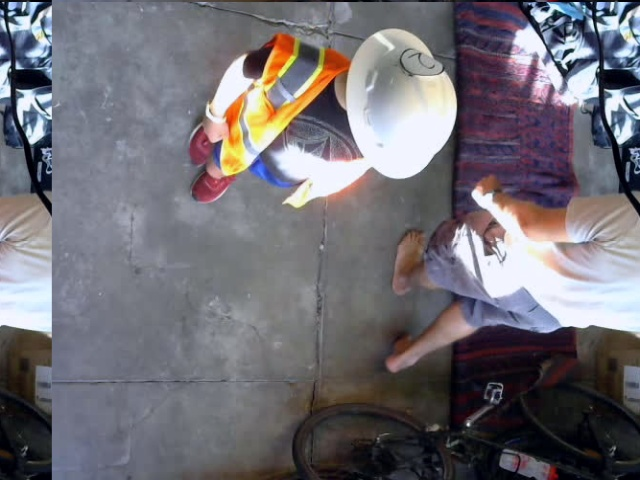two: (400, 47, 444, 76)
